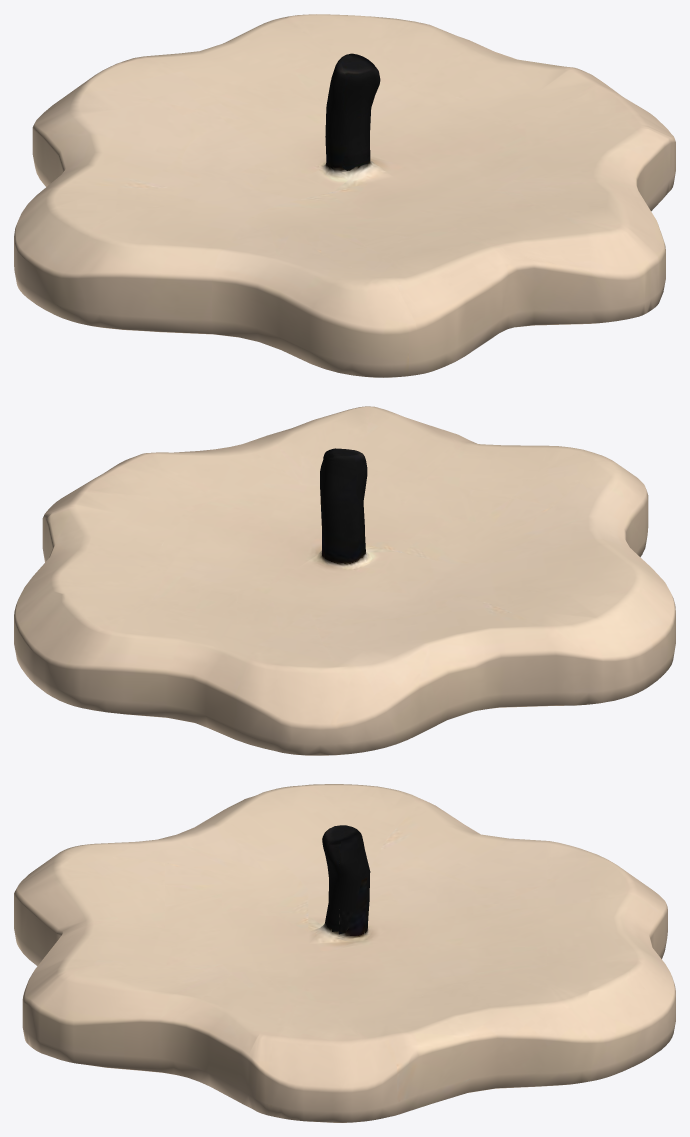
File: wax.glb
3 views of the same model, one above another, from view 1: azimuth 30°, elevation 25°; view 2: azimuth 150°, elevation 25°; view 3: azimuth 270°, elevation 25° (orthographic). The views are drawn at different scales.
Parts seen in each view (by area): view 1: tripo_node_9cf976f4-978d-4c57-bea6-6b31b17653e7; view 2: tripo_node_9cf976f4-978d-4c57-bea6-6b31b17653e7; view 3: tripo_node_9cf976f4-978d-4c57-bea6-6b31b17653e7.
Boxes of the visible parts, left/top/right/bottom form: tripo_node_9cf976f4-978d-4c57-bea6-6b31b17653e7: left=14, top=14, right=675, bottom=377; tripo_node_9cf976f4-978d-4c57-bea6-6b31b17653e7: left=14, top=406, right=675, bottom=755; tripo_node_9cf976f4-978d-4c57-bea6-6b31b17653e7: left=14, top=784, right=675, bottom=1122.
Size of the model in its own units: 0.9995 by 0.2554 by 0.9683.
Materials: 1 (1 with a texture image).
